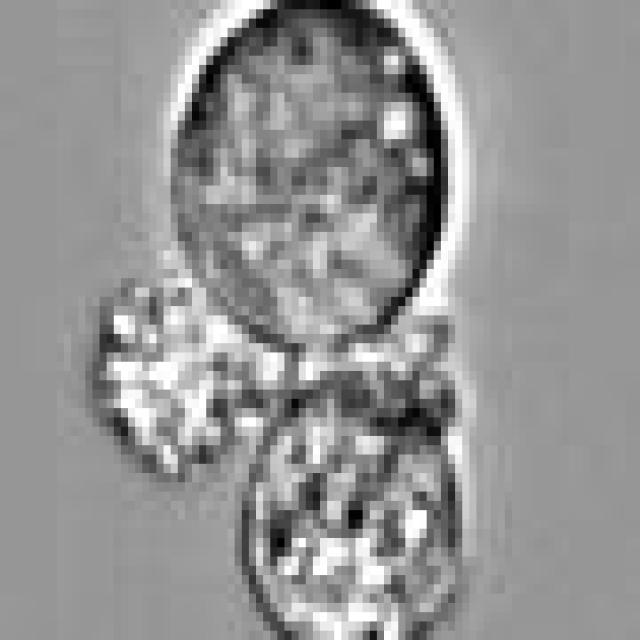Cancer Cell: (178, 9, 448, 343)
WBC: (241, 361, 476, 640), (93, 269, 235, 473)
